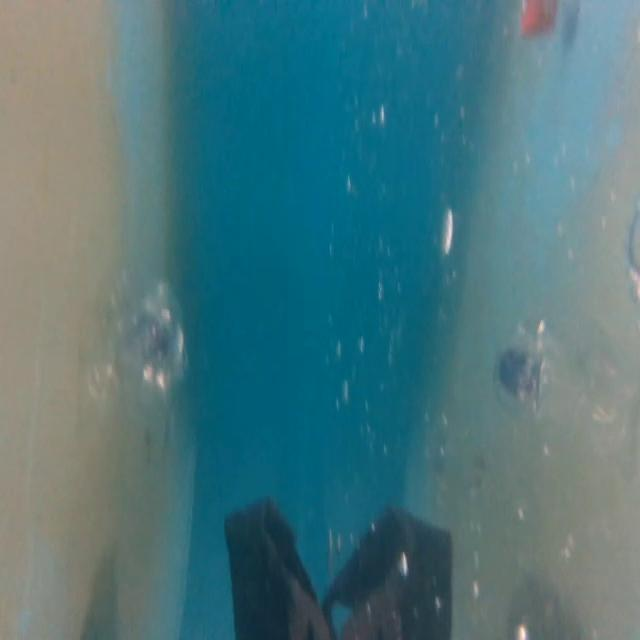plastic bags: (224, 492, 452, 640)
